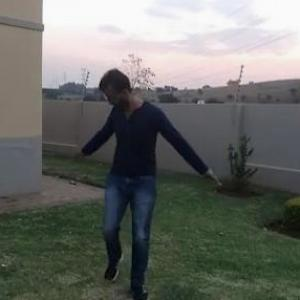land: (63, 59, 225, 288)
